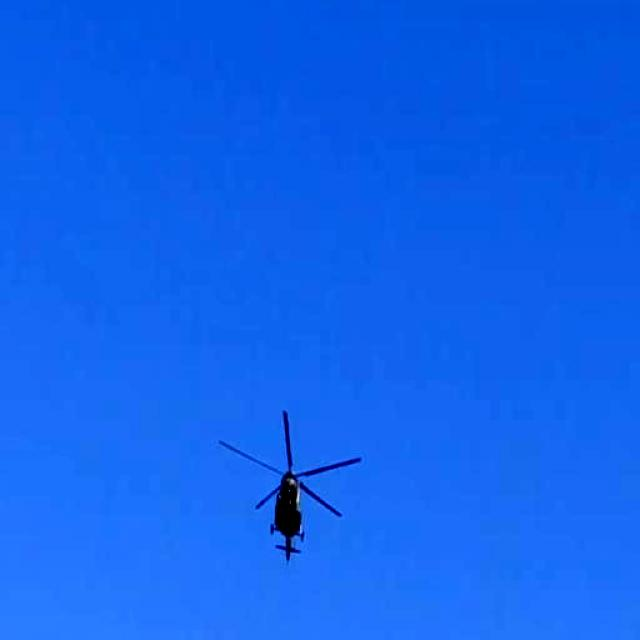drone: (220, 389, 366, 564)
